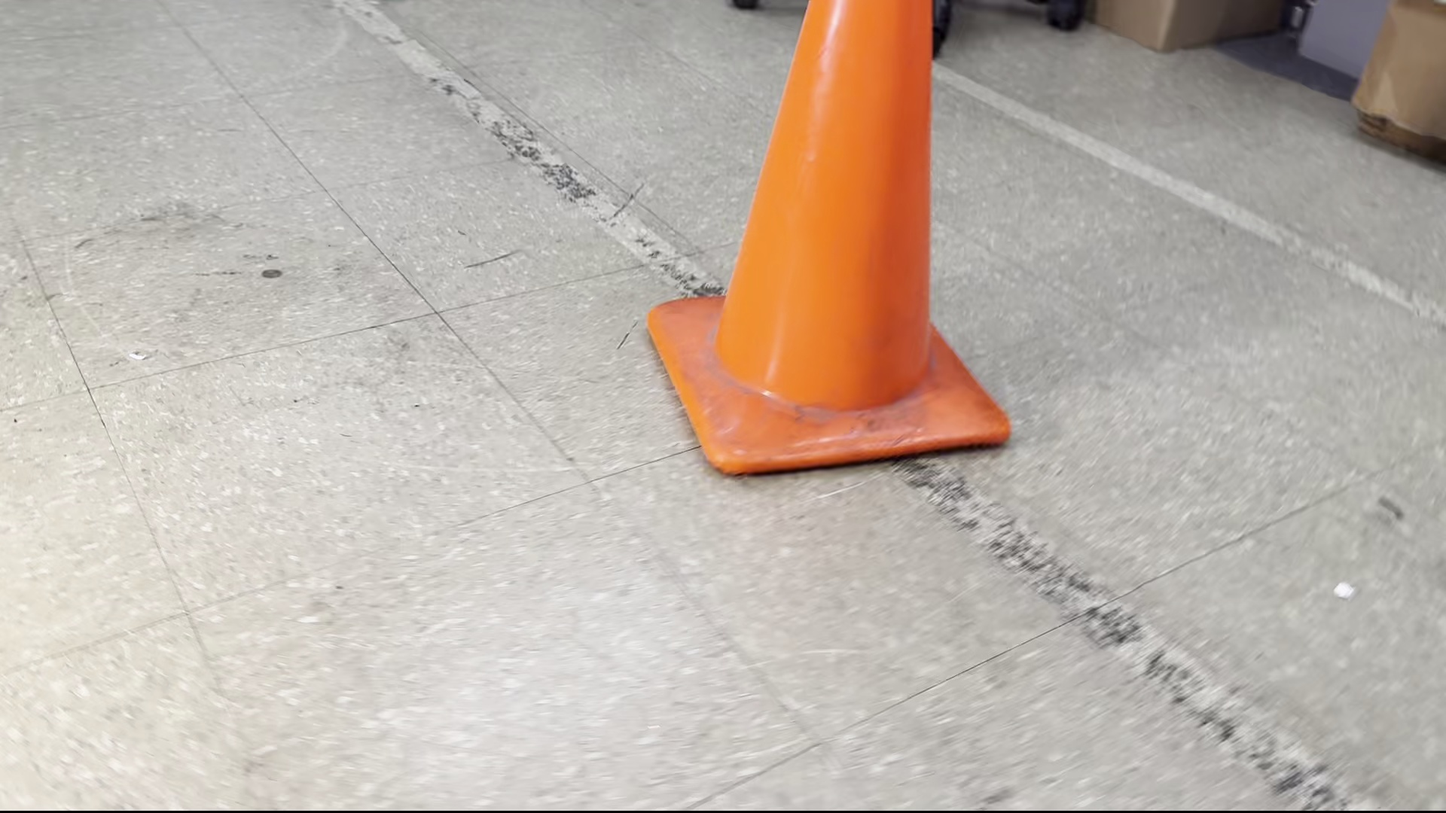traffic_cone: (645, 1, 1012, 476)
